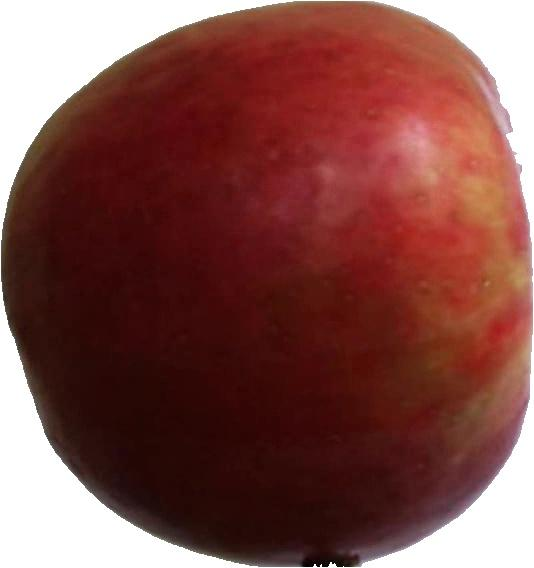fruit: (2, 0, 534, 568)
